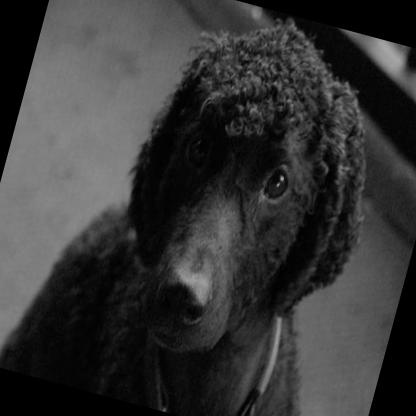Irish_water_spaniel: (0, 0, 405, 416)
